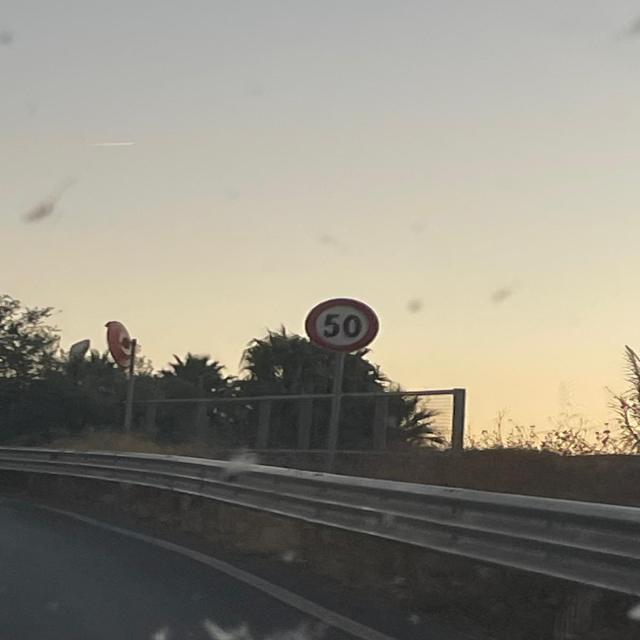forb_speed_over_50: (304, 297, 382, 353)
